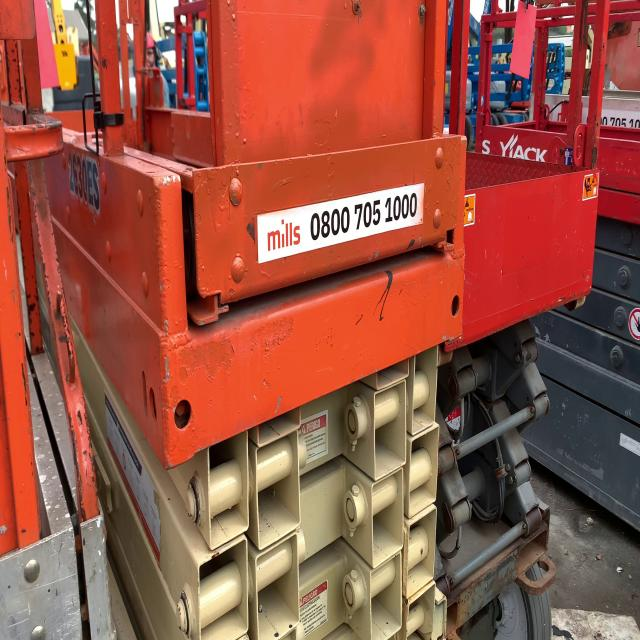Adesivo Longo: (255, 179, 426, 268)
